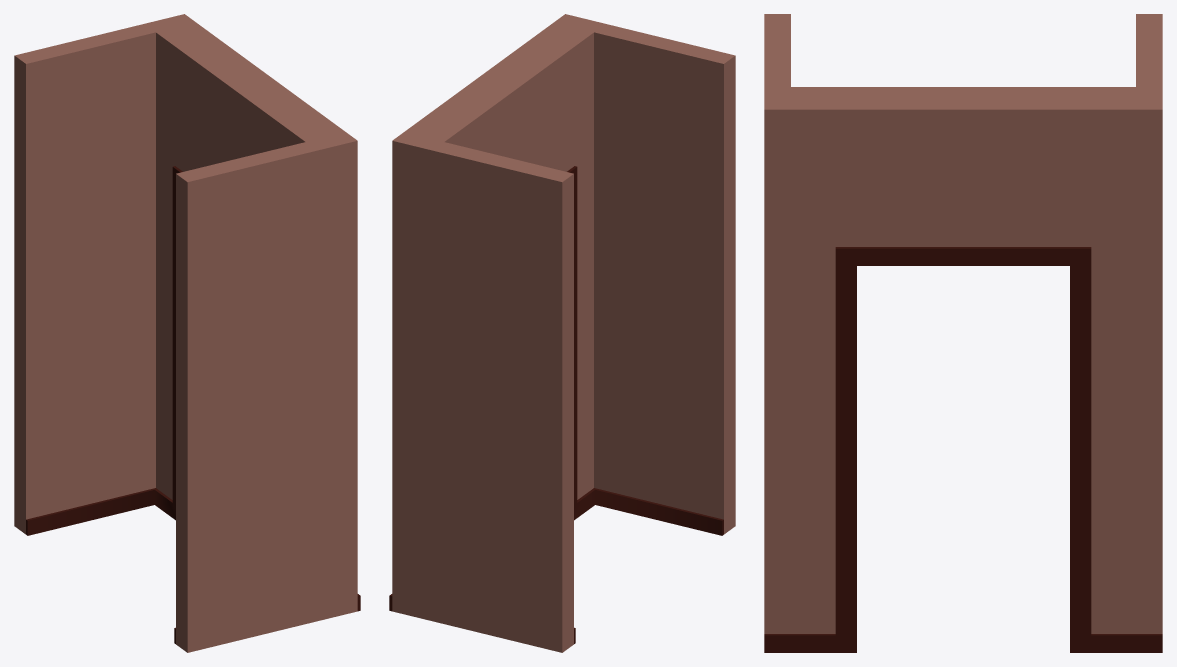
Rendered from T_Porte_02.fbx.
3 views of the same model, side by side, from view 1: azimuth 30°, elevation 25°; view 2: azimuth 150°, elevation 25°; view 3: azimuth 270°, elevation 25° (orthographic). The views are drawn at different scales.
Visible parts, largest first — view 1: T_Porte_02; view 2: T_Porte_02; view 3: T_Porte_02.
Boxes of the visible parts, x1=… form: T_Porte_02: x1=14, y1=14, x2=360, y2=652; T_Porte_02: x1=389, y1=14, x2=735, y2=652; T_Porte_02: x1=764, y1=14, x2=1162, y2=652.
Bounding box in the file's own units: 115 × 300 × 200.
